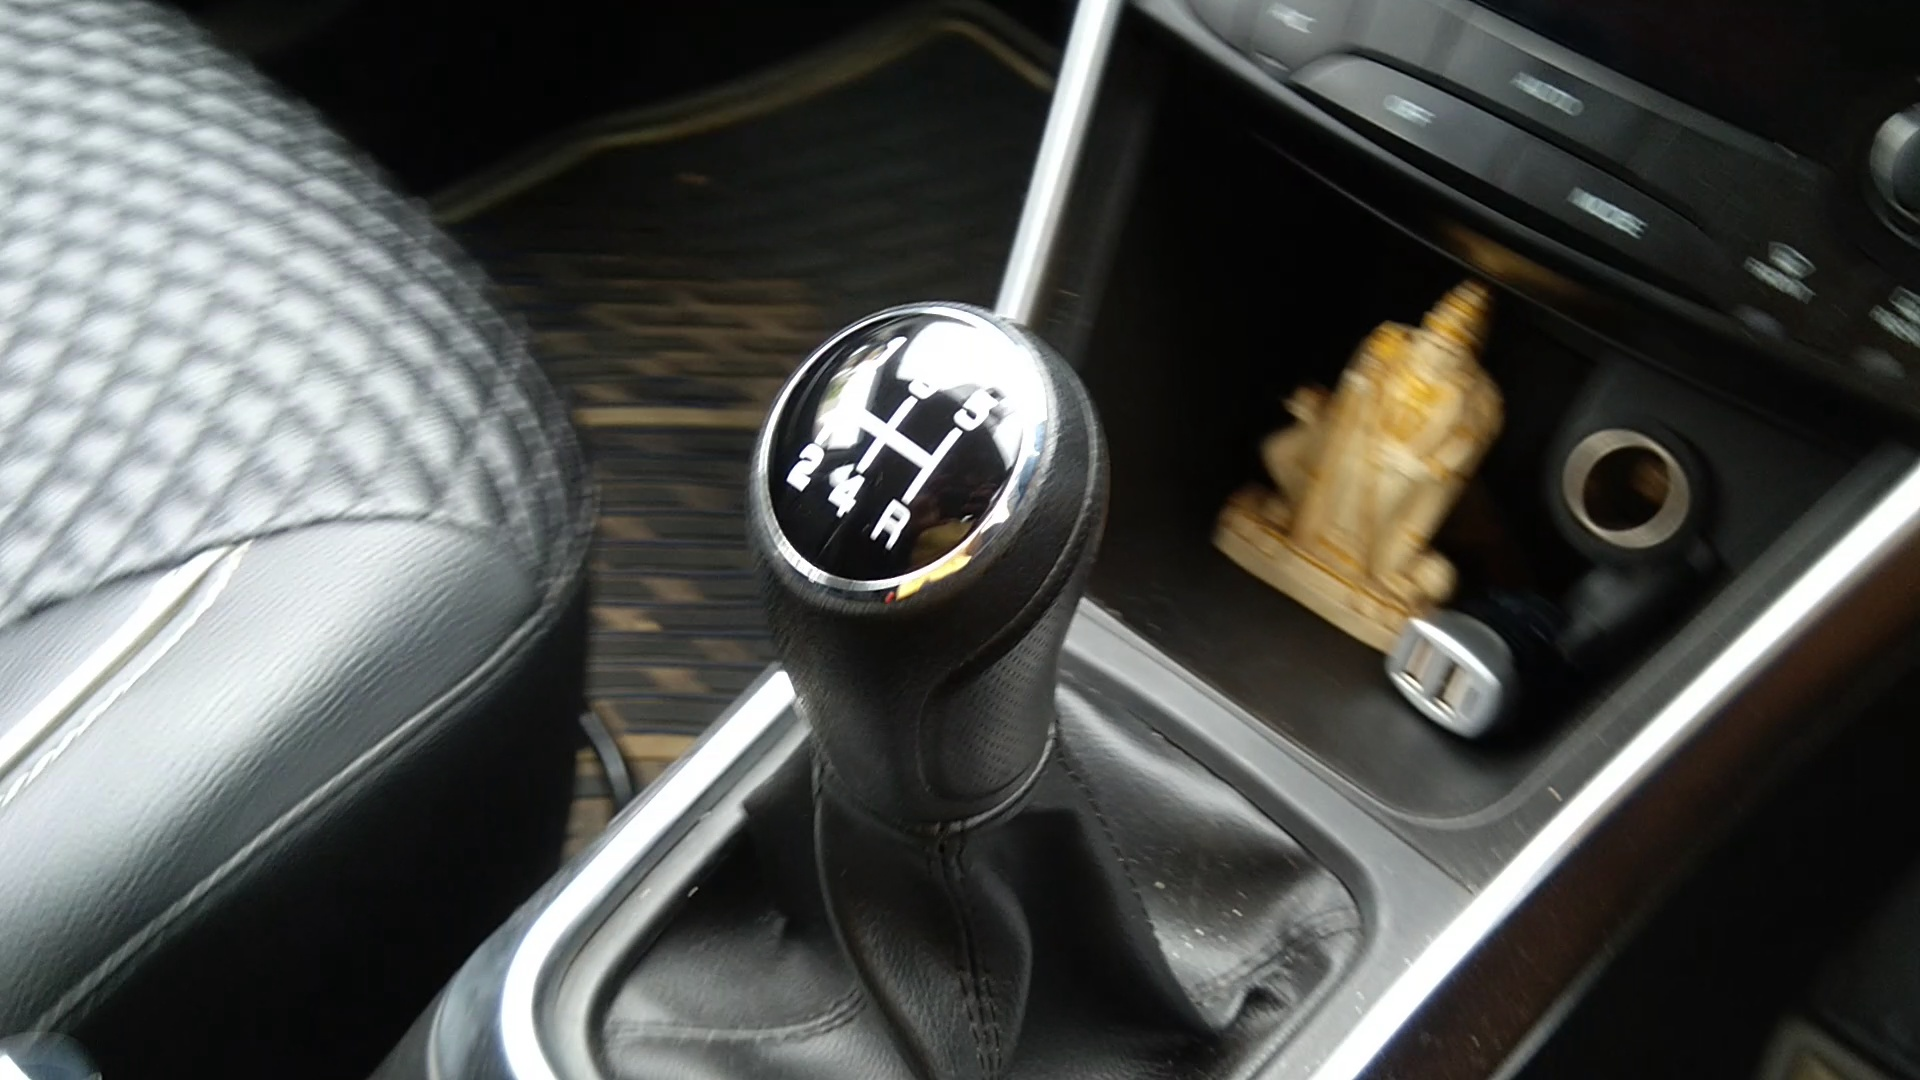manual_gear: (749, 301, 1120, 910)
